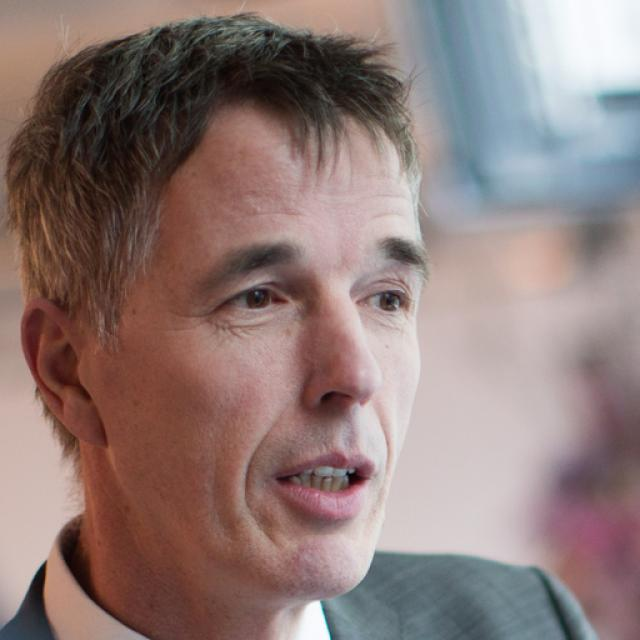Acne: (244, 201, 265, 220)
